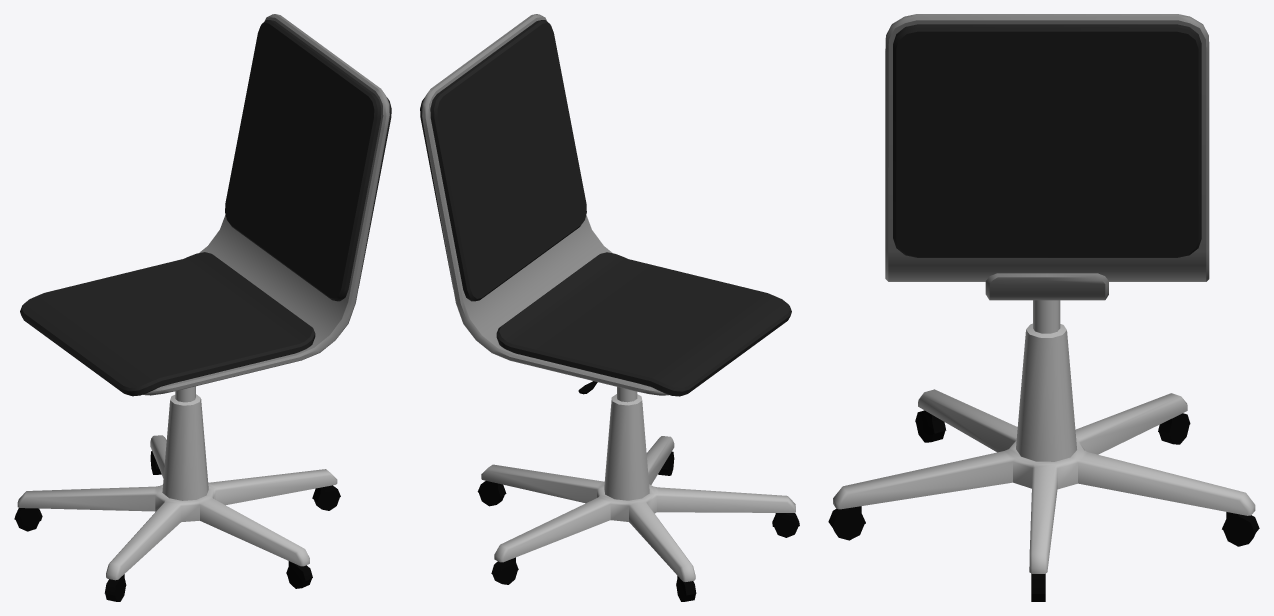
File: OfficeChair.fbx
The picture shows the model from 3 angles, left to right: view 1: azimuth 30°, elevation 25°; view 2: azimuth 150°, elevation 25°; view 3: azimuth 270°, elevation 25°; orthographic projection. The views are drawn at different scales.
Parts seen in each view (by area): view 1: OfficeCHair; view 2: OfficeCHair; view 3: OfficeCHair.
Boxes of the visible parts, bbox=[...] form: OfficeCHair: bbox=[14, 14, 391, 601]; OfficeCHair: bbox=[420, 14, 799, 601]; OfficeCHair: bbox=[828, 14, 1259, 601].
Bounding box in the file's own units: 0.533 × 0.8308 × 0.5499.
1 material, 1 textured.
